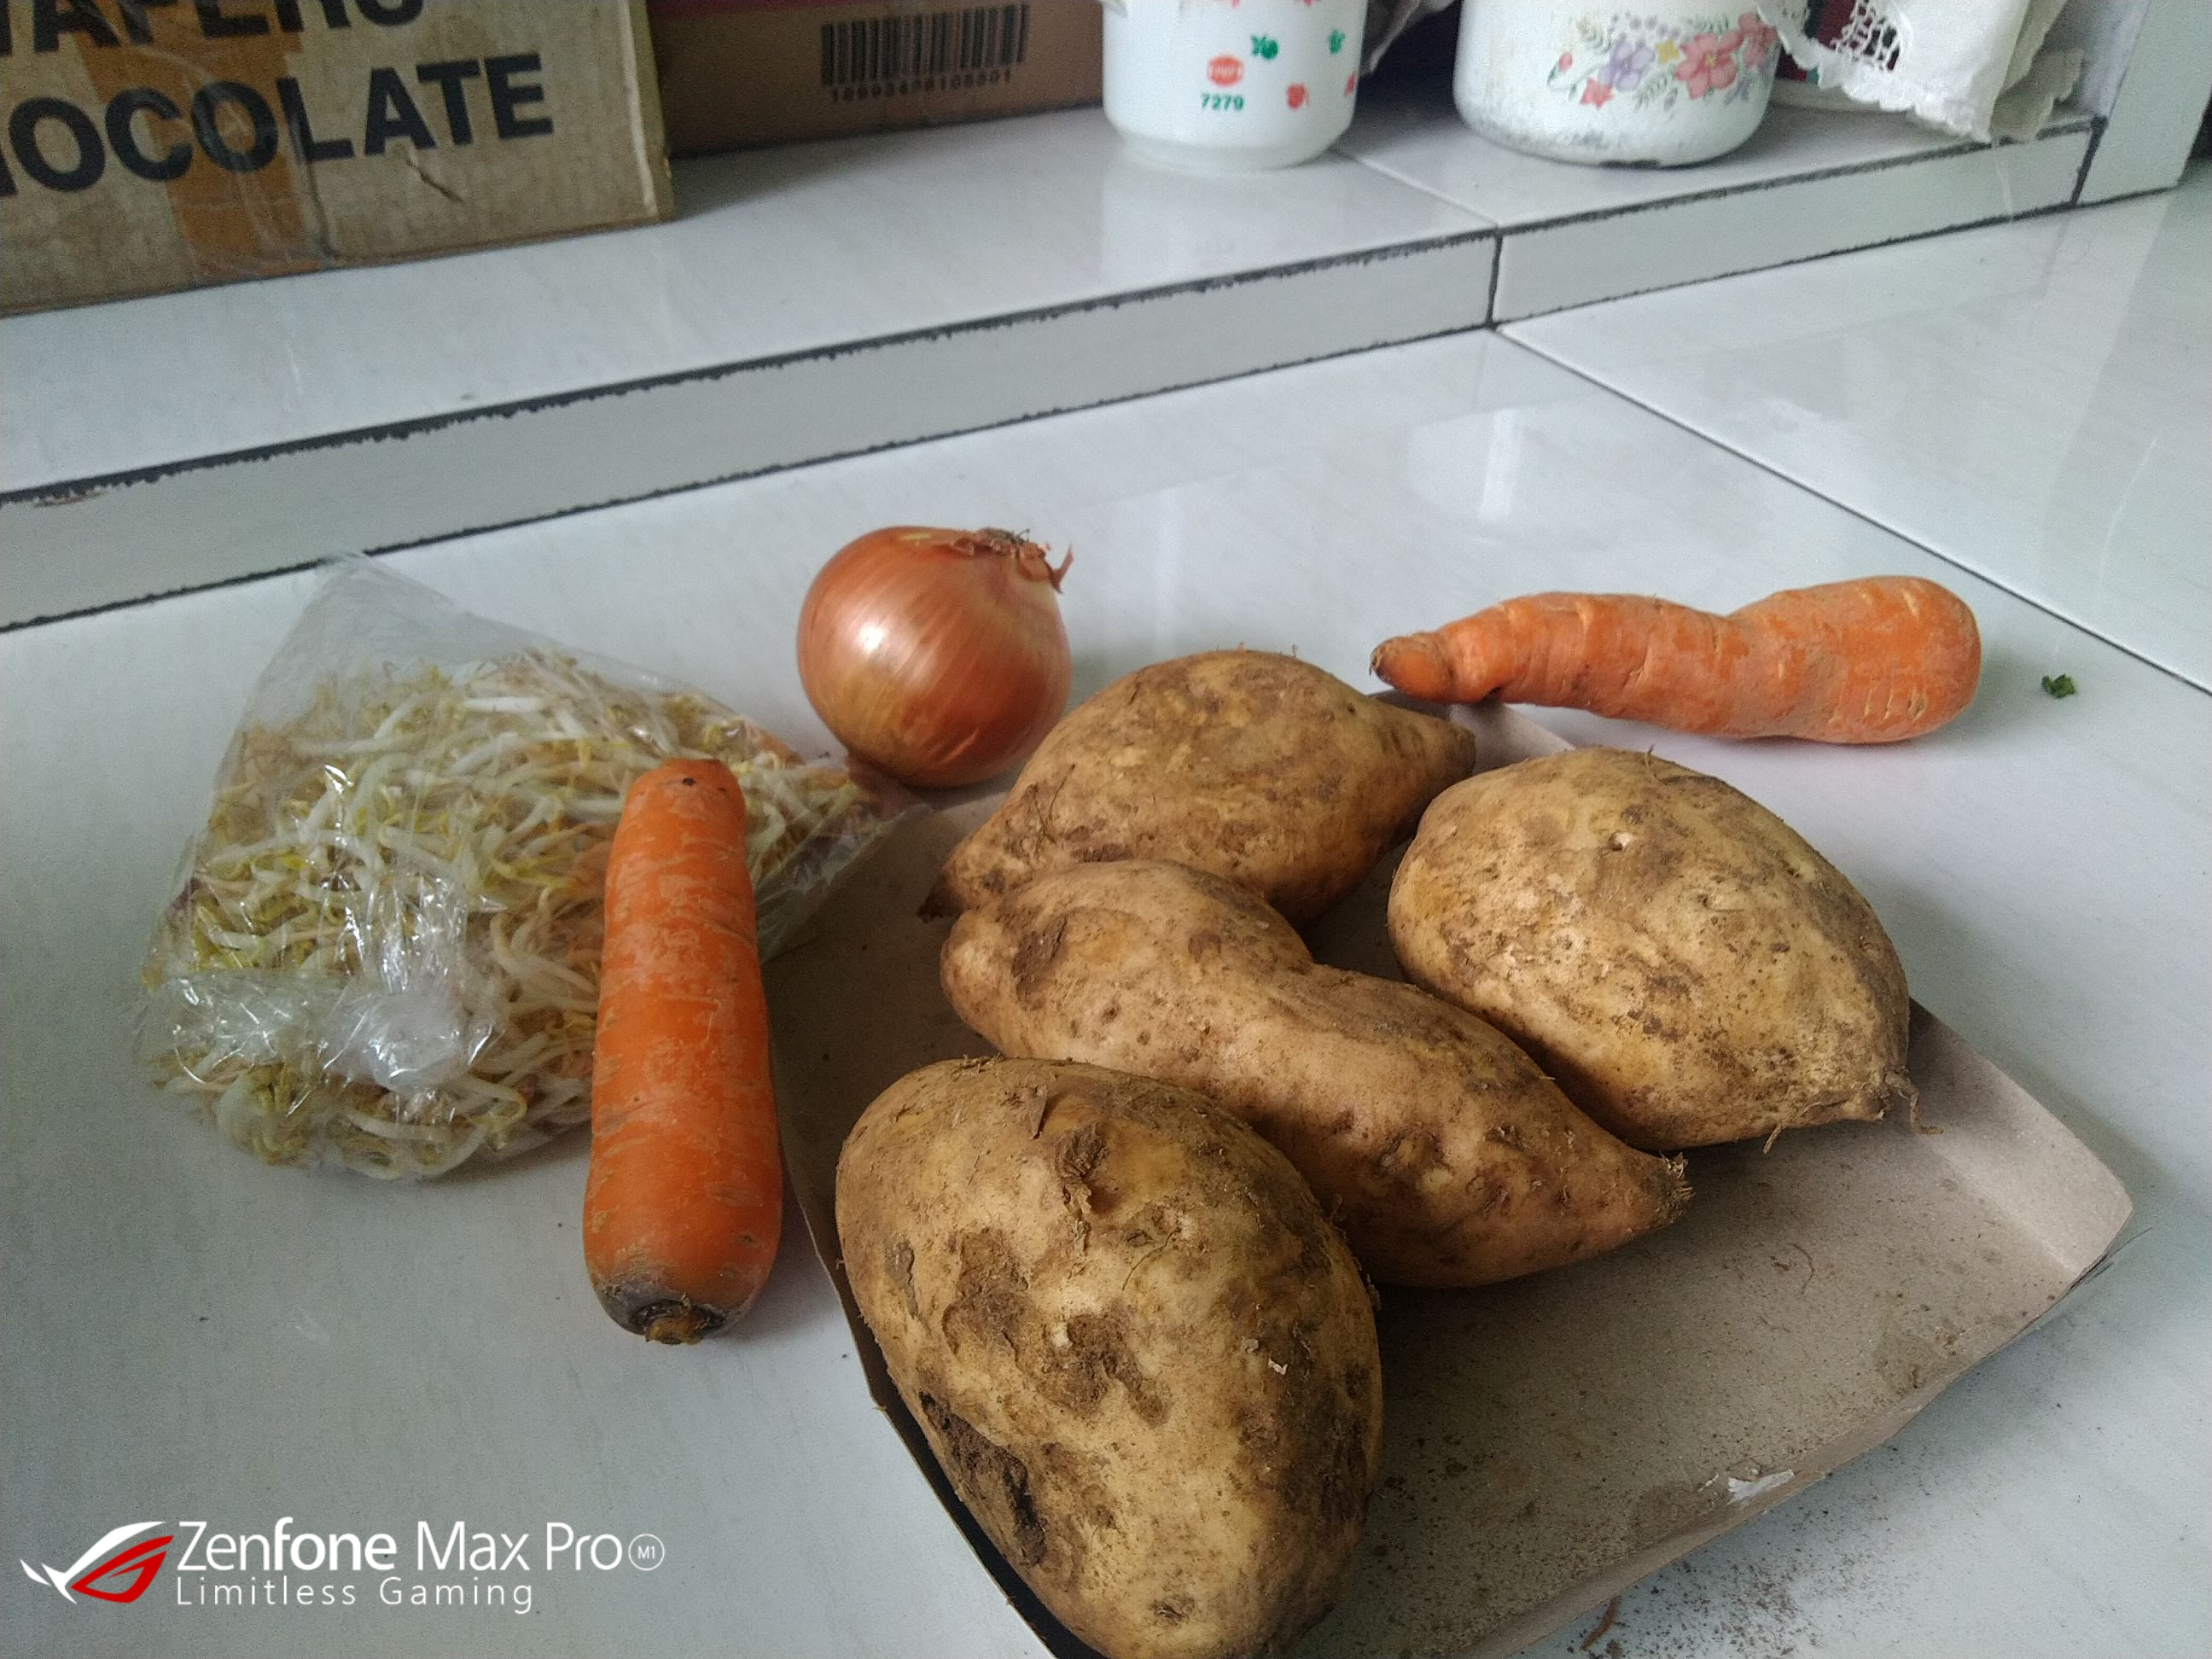ubi kuning: (817, 1056, 1393, 1652), (920, 857, 1696, 1265), (1395, 746, 1947, 1143), (904, 652, 1519, 922)
